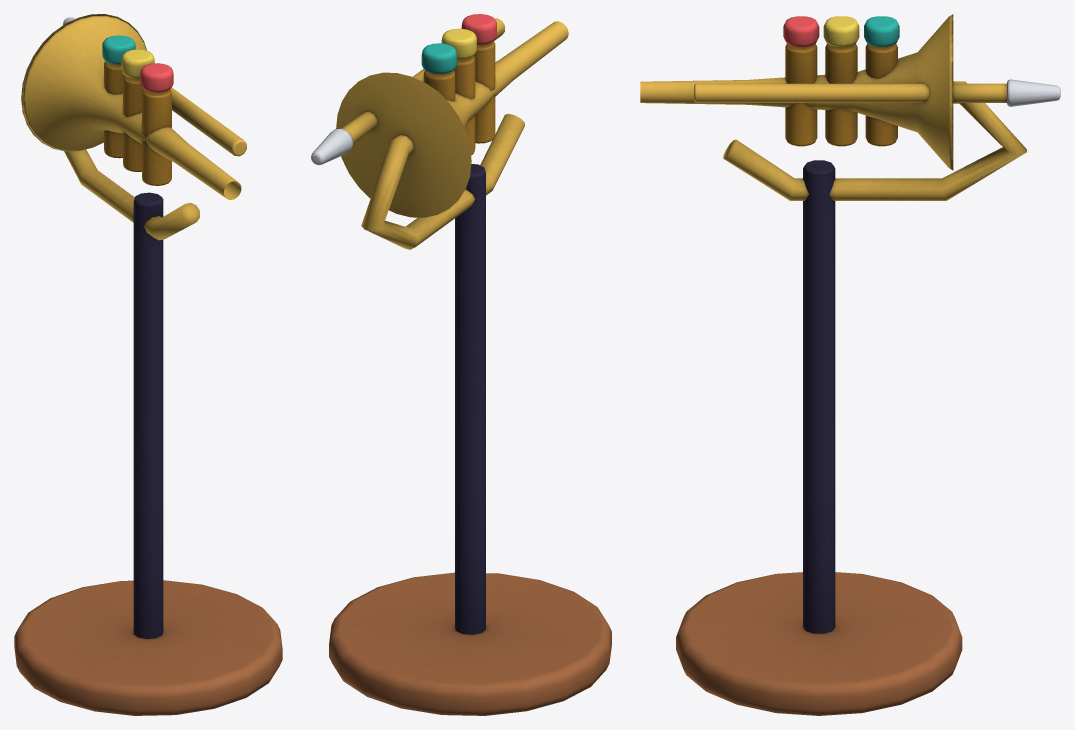
File: Trumpet.fbx
3 renders of one model, left to right at view 1: azimuth 30°, elevation 25°; view 2: azimuth 150°, elevation 25°; view 3: azimuth 270°, elevation 25°, orthographic. The views are drawn at different scales.
Parts seen in each view (by area): view 1: Trumpet_Body, Key_0_Mesh.001, Key_1_Mesh.001, Key_2_Mesh.001; view 2: Trumpet_Body, Key_2_Mesh.001, Key_1_Mesh.001, Key_0_Mesh.001; view 3: Trumpet_Body, Key_0_Mesh.001, Key_1_Mesh.001, Key_2_Mesh.001.
Part boxes in pixels (<box>): Trumpet_Body: <box>14,14,282,715</box>; Key_0_Mesh.001: <box>140,63,173,92</box>; Key_1_Mesh.001: <box>121,49,154,78</box>; Key_2_Mesh.001: <box>102,35,135,64</box>; Trumpet_Body: <box>311,18,611,715</box>; Key_2_Mesh.001: <box>421,43,456,74</box>; Key_1_Mesh.001: <box>441,28,476,59</box>; Key_0_Mesh.001: <box>461,14,496,44</box>; Trumpet_Body: <box>640,14,1060,715</box>; Key_0_Mesh.001: <box>783,16,819,46</box>; Key_1_Mesh.001: <box>823,16,859,46</box>; Key_2_Mesh.001: <box>864,16,899,46</box>.
Bounding box in the file's own units: 0.32 × 0.7875 × 0.47.
